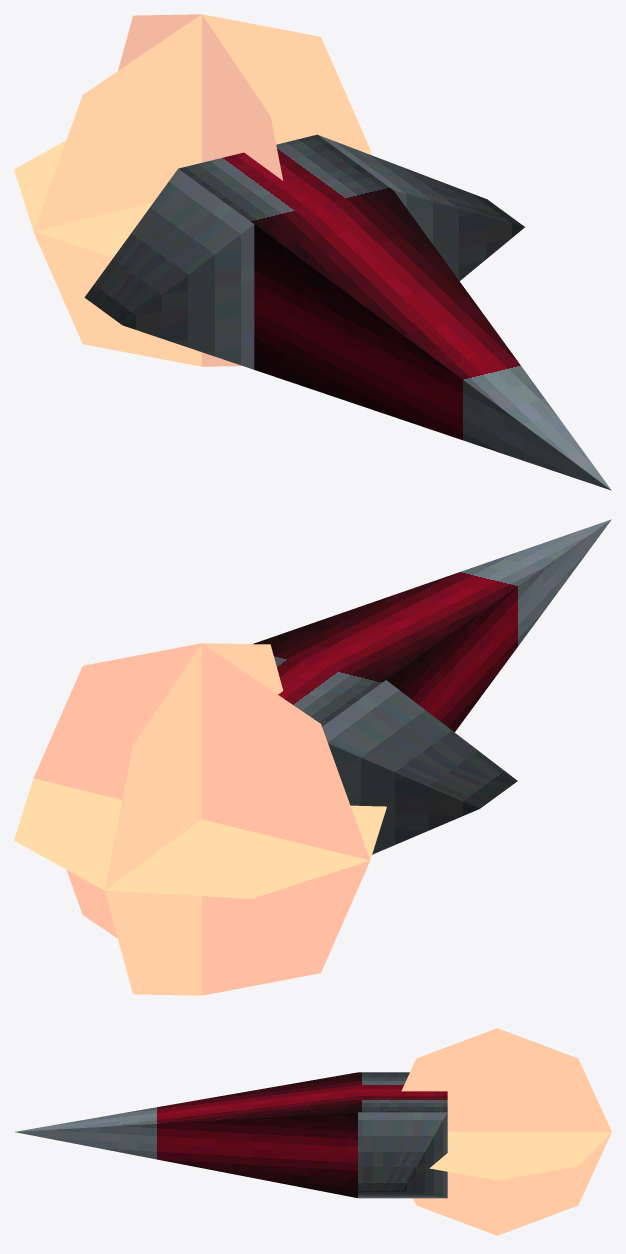
The model's file is mp-obj044-rocket-hyper.glb.
3 renders of one model, top to bottom at view 1: azimuth 30°, elevation 25°; view 2: azimuth 150°, elevation 25°; view 3: azimuth 270°, elevation 25°, orthographic. The views are drawn at different scales.
Visible parts, largest first — view 1: Mp_obj_044; view 2: Mp_obj_044; view 3: Mp_obj_044.
Boxes of the visible parts, x1,y1,x2,y2 form: Mp_obj_044: [14, 14, 611, 490]; Mp_obj_044: [14, 519, 611, 995]; Mp_obj_044: [15, 1028, 611, 1235].
Bounding box in the file's own units: 0.1074 × 0.0898 × 0.2344.
Materials: 2 (1 with a texture image).
